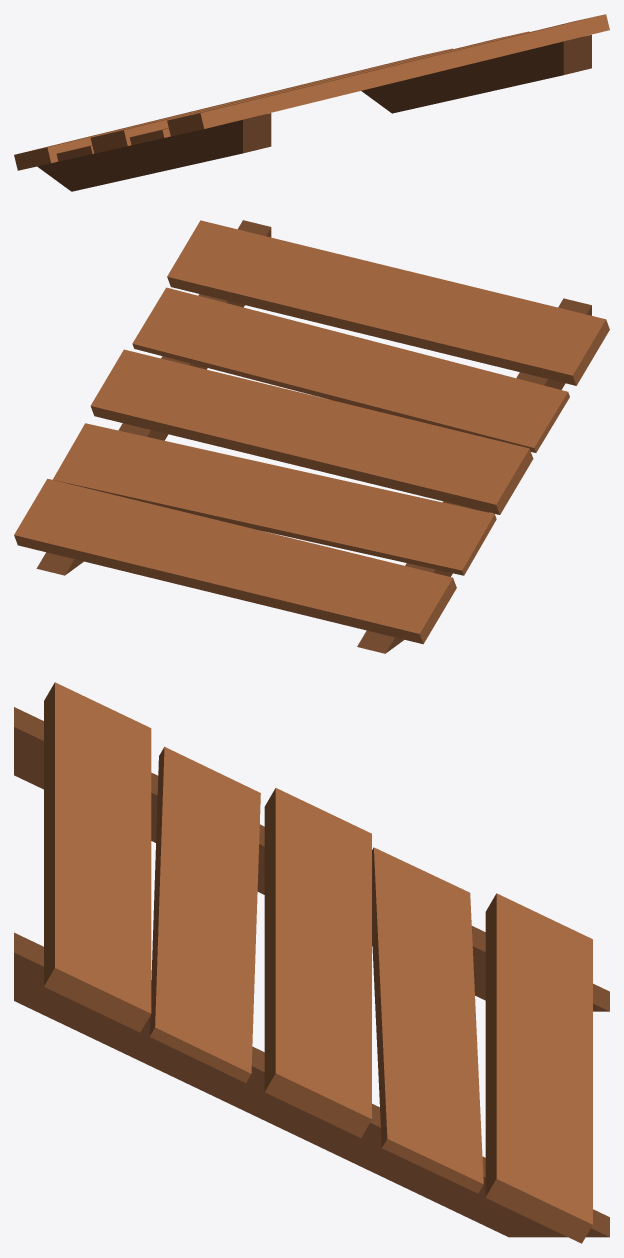
Rendered from bridgeRamp.glb.
3 views of the same model, one above another, from view 1: azimuth 30°, elevation 25°; view 2: azimuth 150°, elevation 25°; view 3: azimuth 270°, elevation 25° (orthographic). The views are drawn at different scales.
Visible parts, largest first — view 1: bridgeRamp; view 2: bridgeRamp; view 3: bridgeRamp.
Boxes of the visible parts, x1,y1,x2,y2 form: bridgeRamp: (14,14,609,191); bridgeRamp: (14,220,609,653); bridgeRamp: (14,682,609,1243).
Bounding box in the file's own units: 1 × 0.4726 × 0.882.
